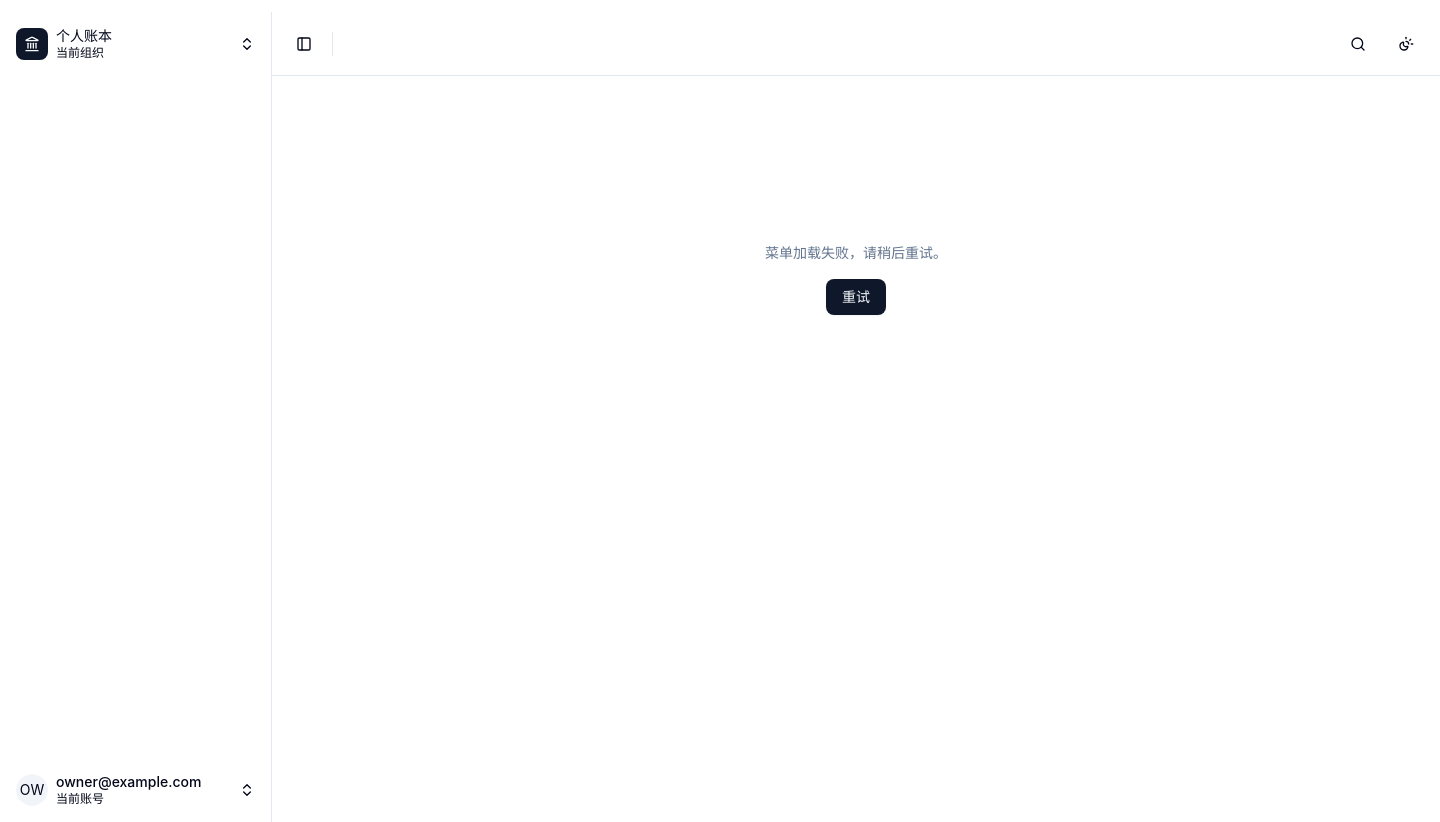
Test case: AppRouter startup › rechecks the active registered route after a failed menu bootstrap is retried
The width and height of the screenshot is (1440, 822).
expect the message reads "菜单加载失败，请稍后重试。": met, box [765,244,947,260]
Step 1. Click the button "重试" → {"x": 856, "y": 296}, box [826,278,886,314]
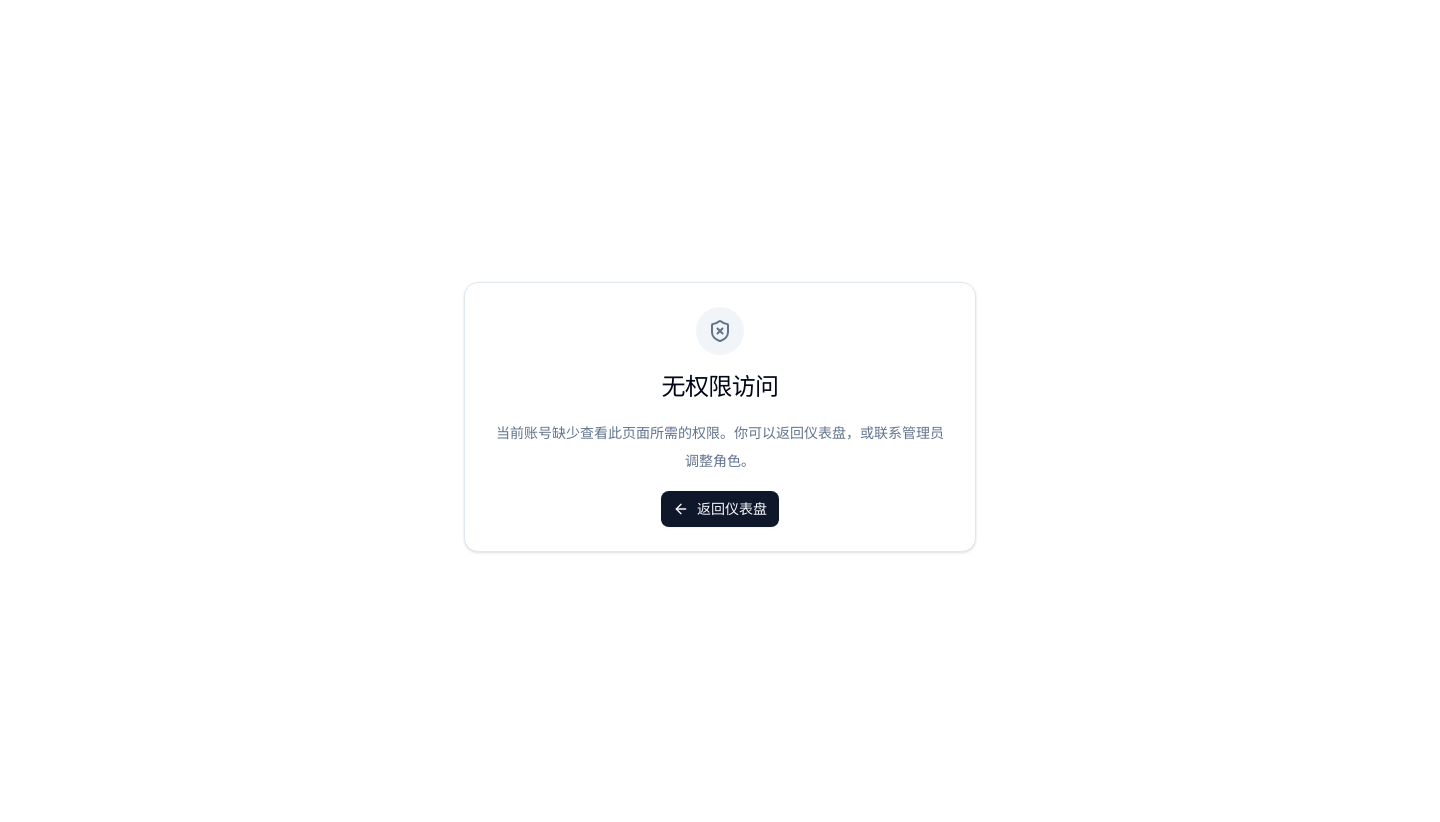
expect the heading "无权限访问" is shown: met, box [662,371,778,403]
